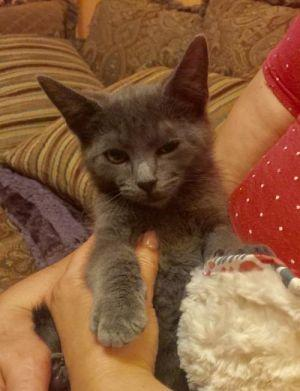rblue: (36, 31, 229, 222)
